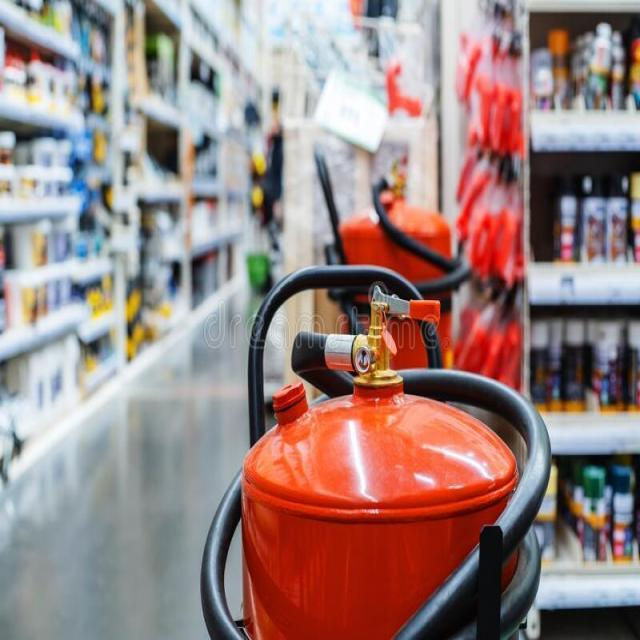fire_extinguisher: (201, 247, 567, 639), (300, 123, 470, 617)
